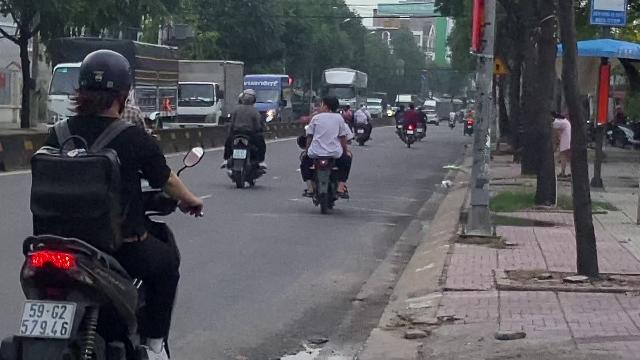helmet: (70, 48, 136, 116), (239, 88, 255, 104)
licenseplate: (18, 301, 76, 338), (234, 150, 246, 158)
motorcyclist: (1, 45, 202, 357), (298, 91, 354, 213), (220, 88, 268, 188)
nohelmet: (319, 93, 339, 113)
